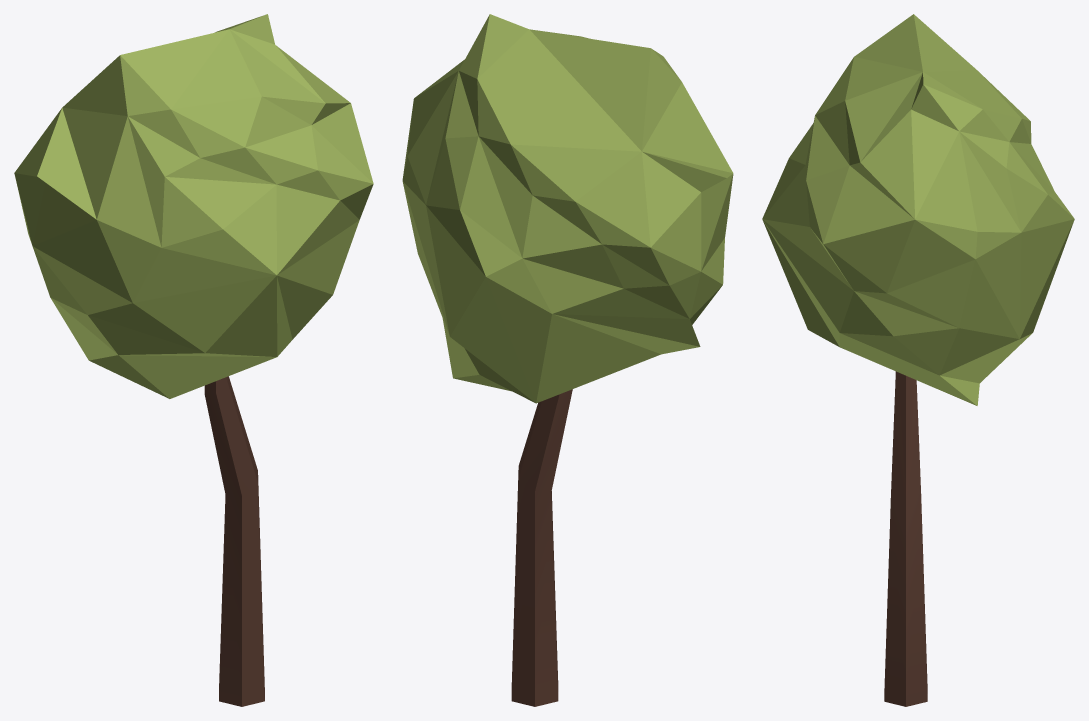
Rendered from tree.FBX.
3 renders of one model, left to right at view 1: azimuth 30°, elevation 25°; view 2: azimuth 150°, elevation 25°; view 3: azimuth 270°, elevation 25°, orthographic. The views are drawn at different scales.
Visible parts, largest first — view 1: tree white; view 2: tree white; view 3: tree white.
Part boxes in pixels (x1,y1,x2,y2): tree white: (14,14,373,706); tree white: (402,14,733,706); tree white: (762,14,1074,706).
Bounding box in the file's own units: 61.22 × 126 × 56.63.
